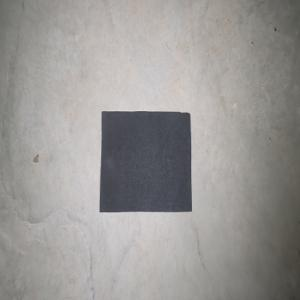PaintChip: (98, 110, 192, 212)
